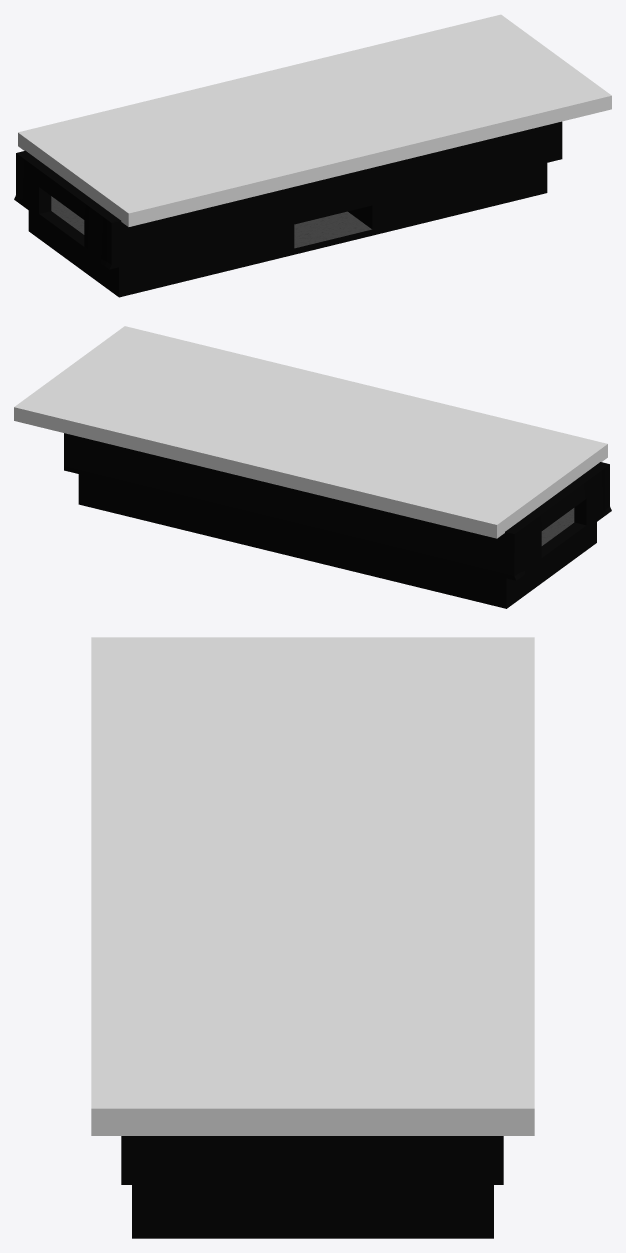
File: ship.glb
3 renders of one model, top to bottom at view 1: azimuth 30°, elevation 25°; view 2: azimuth 150°, elevation 25°; view 3: azimuth 270°, elevation 25°, orthographic. The views are drawn at different scales.
Parts seen in each view (by area): view 1: Cube.003, Cube; view 2: Cube.003, Cube; view 3: Cube.003, Cube.
Part boxes in pixels (left/top/right/bottom): Cube.003: left=18, top=14, right=611, bottom=226; Cube: left=14, top=121, right=562, bottom=297; Cube.003: left=14, top=326, right=607, bottom=538; Cube: left=64, top=433, right=611, bottom=608; Cube.003: left=91, top=637, right=534, bottom=1135; Cube: left=121, top=1136, right=503, bottom=1238.
Size of the model in its own units: 189 by 33.42 by 73.37.
Materials: 3 (2 with a texture image).
